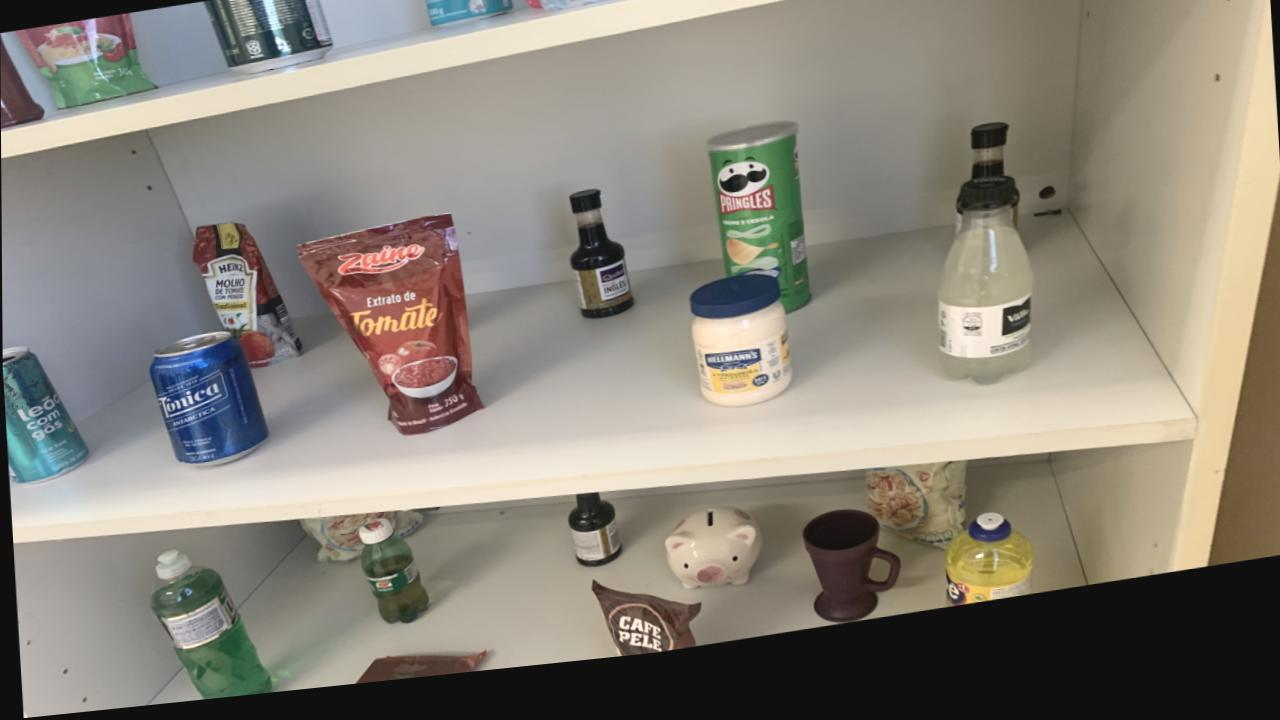Cleaner-Cleanup_Items: (423, 0, 512, 37)
Coffee-Pantry_Items: (591, 594, 701, 670)
Detergent-Cleanup_Items: (149, 553, 272, 704), (944, 533, 1033, 627)
English_Sauce-Pantry_Items: (568, 201, 633, 331), (567, 506, 620, 580), (970, 143, 1008, 200), (1010, 216, 1019, 247), (955, 228, 962, 252)
Flakes-Snacks: (864, 481, 966, 568), (298, 518, 421, 569), (993, 546, 996, 548)
Guarana-Drinks: (356, 526, 428, 633)
Guarana_Can-Drinks: (204, 0, 333, 79)
Guava-Snacks: (355, 662, 484, 691)
Ketchup-Pantry_Items: (0, 40, 45, 129)
Mayonnaise-Pantry_Items: (688, 289, 791, 424)
Pig_Safe-Miscellaneous: (664, 522, 760, 604)
Pringles-Snacks: (706, 138, 811, 330)
Soap-Cleanup_Items: (523, 0, 542, 20)
Soda-Drinks: (936, 196, 1032, 405)
Tea-Drinks: (2, 347, 87, 485)
Tomato_Sauce-Pantry_Items: (297, 223, 483, 444), (191, 228, 300, 373), (15, 16, 156, 110)
Tonic-Drinks: (150, 336, 267, 471)
Water_Bottle-Drinks: (536, 0, 649, 23)
